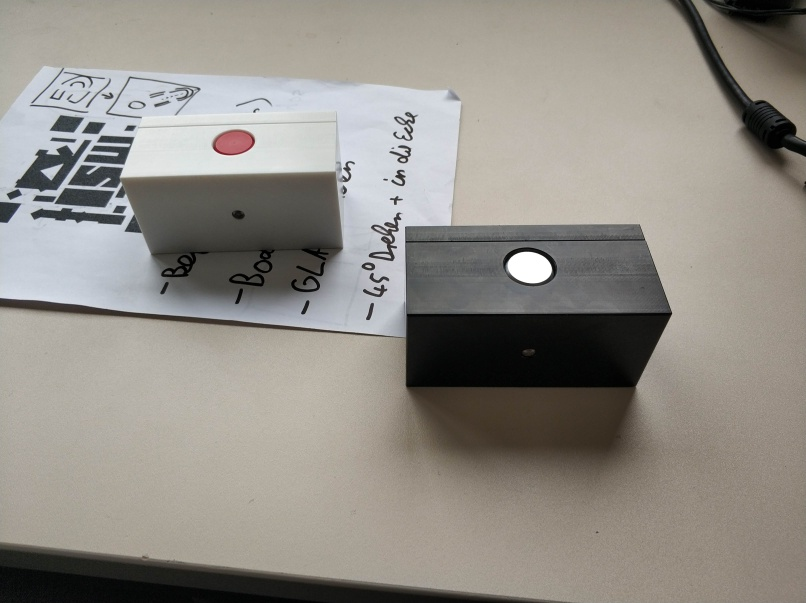black+black+silver: (400, 219, 676, 391)
white+white+red: (116, 107, 345, 259)
